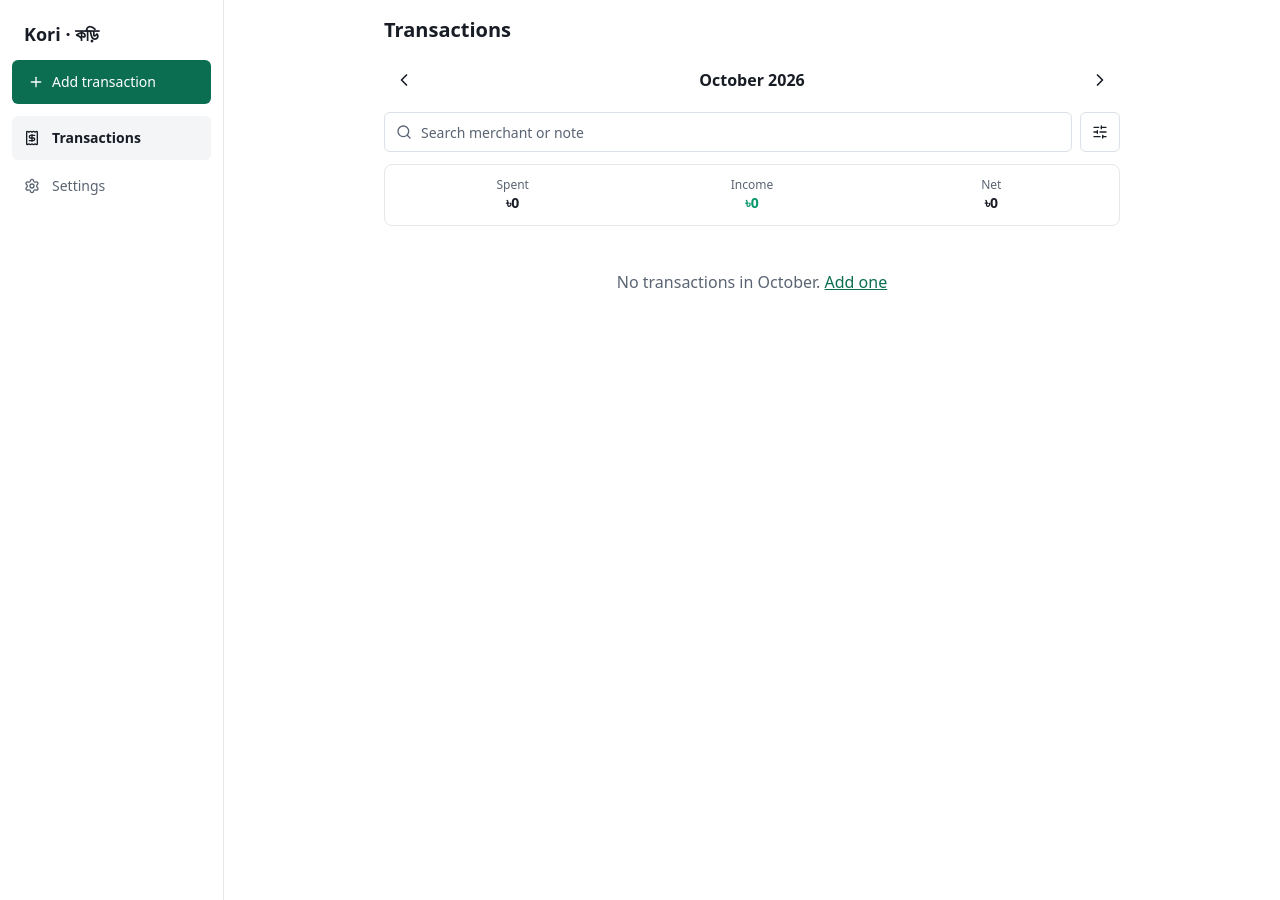
transaction form › logs an expense with amount, category, save
Click the button "Add transaction": point(112, 82) [12,60,211,104]
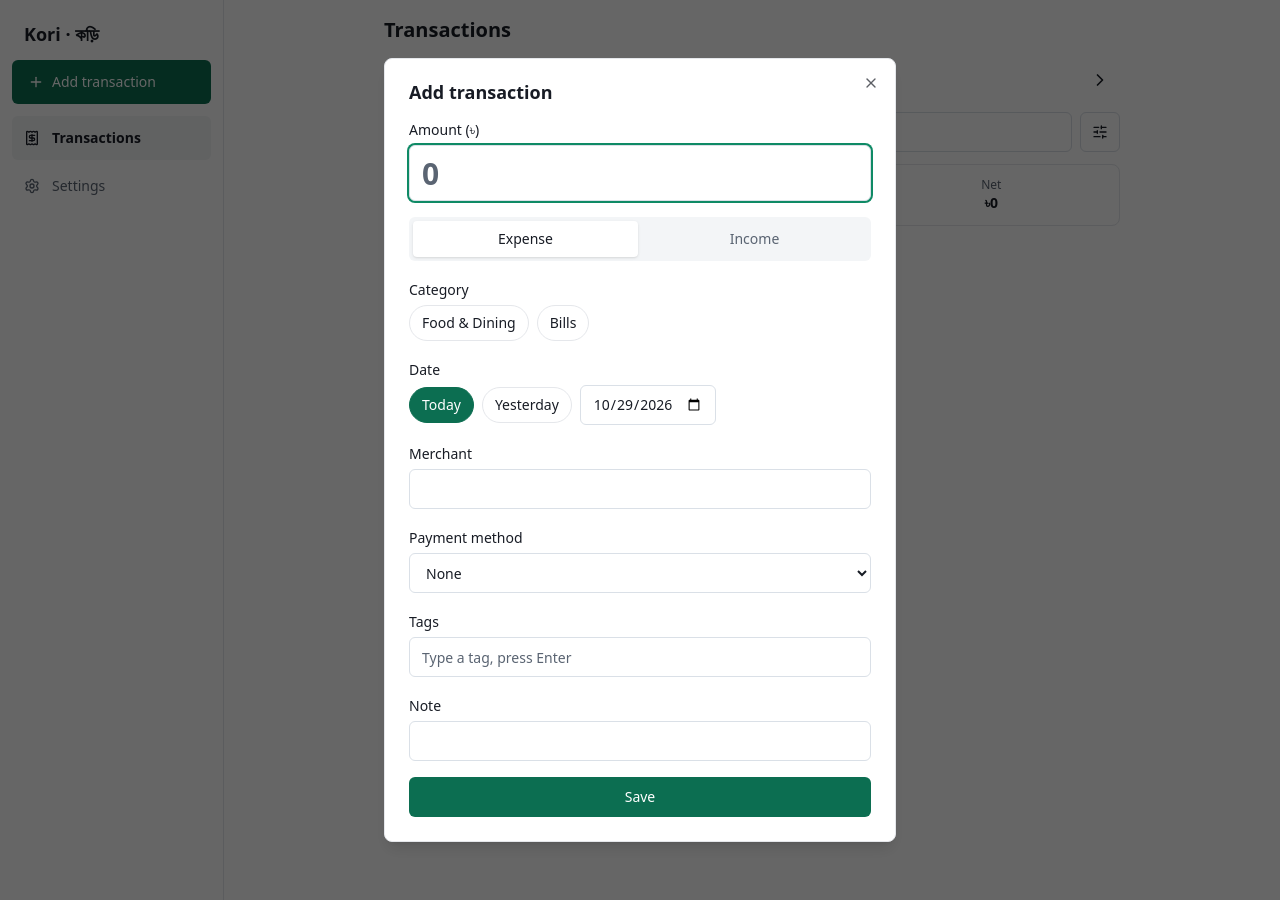
In the field labelled "Amount (৳)": point(640, 173) [409,145,871,201], type "1,250.5"
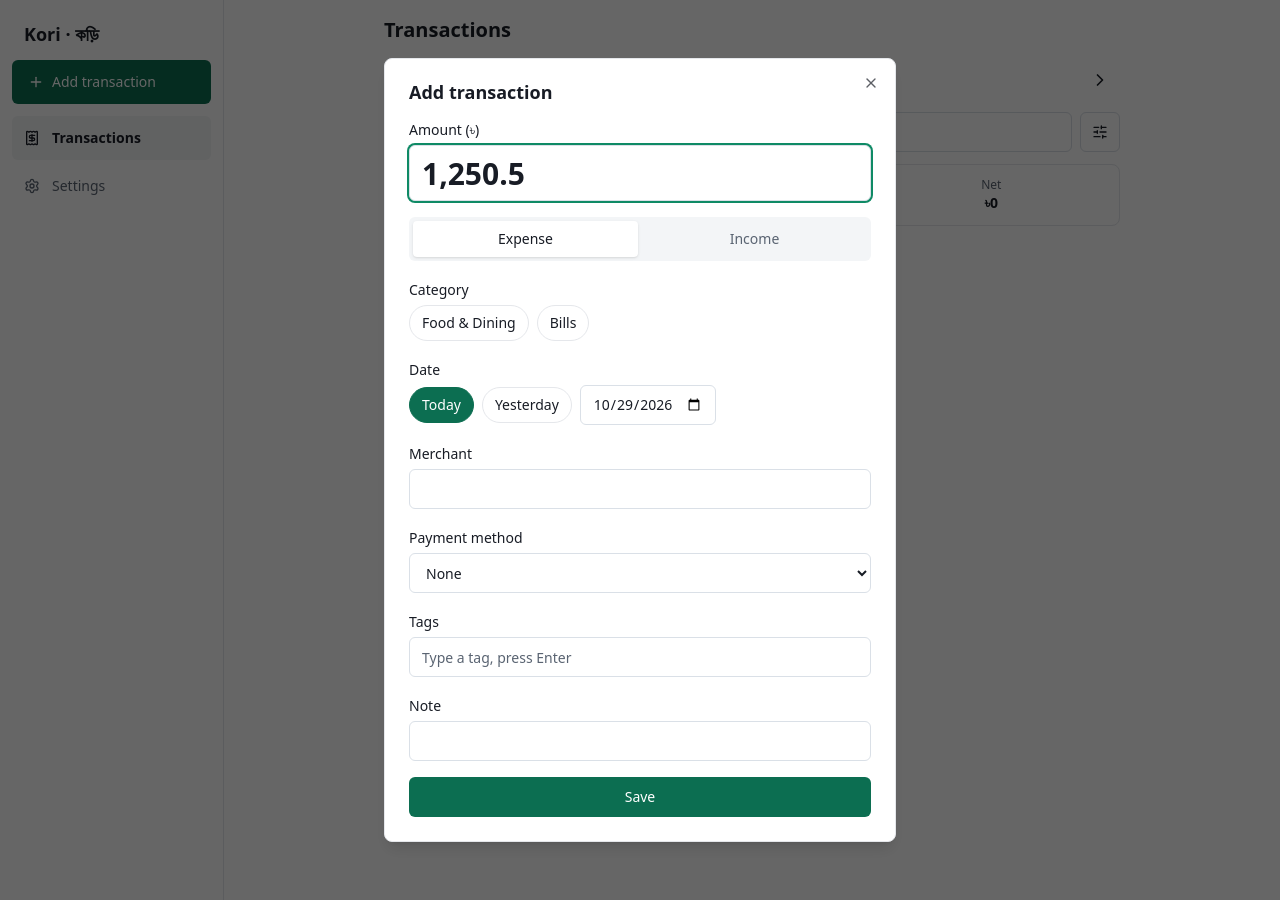
Click the radio button labelled "Food & Dining": point(469, 323) [409,305,529,341]
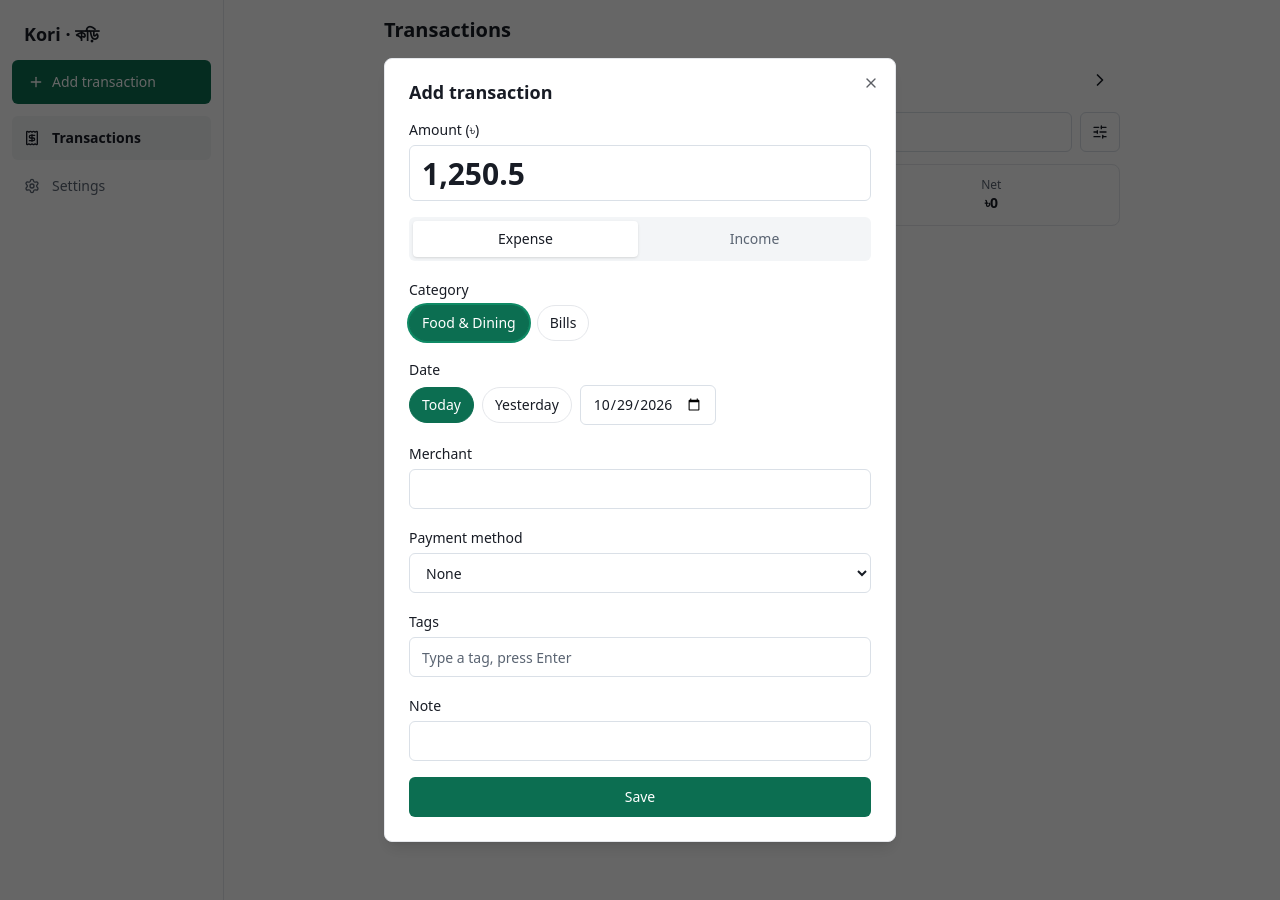
Click the button "Save": point(640, 797) [409,777,871,817]
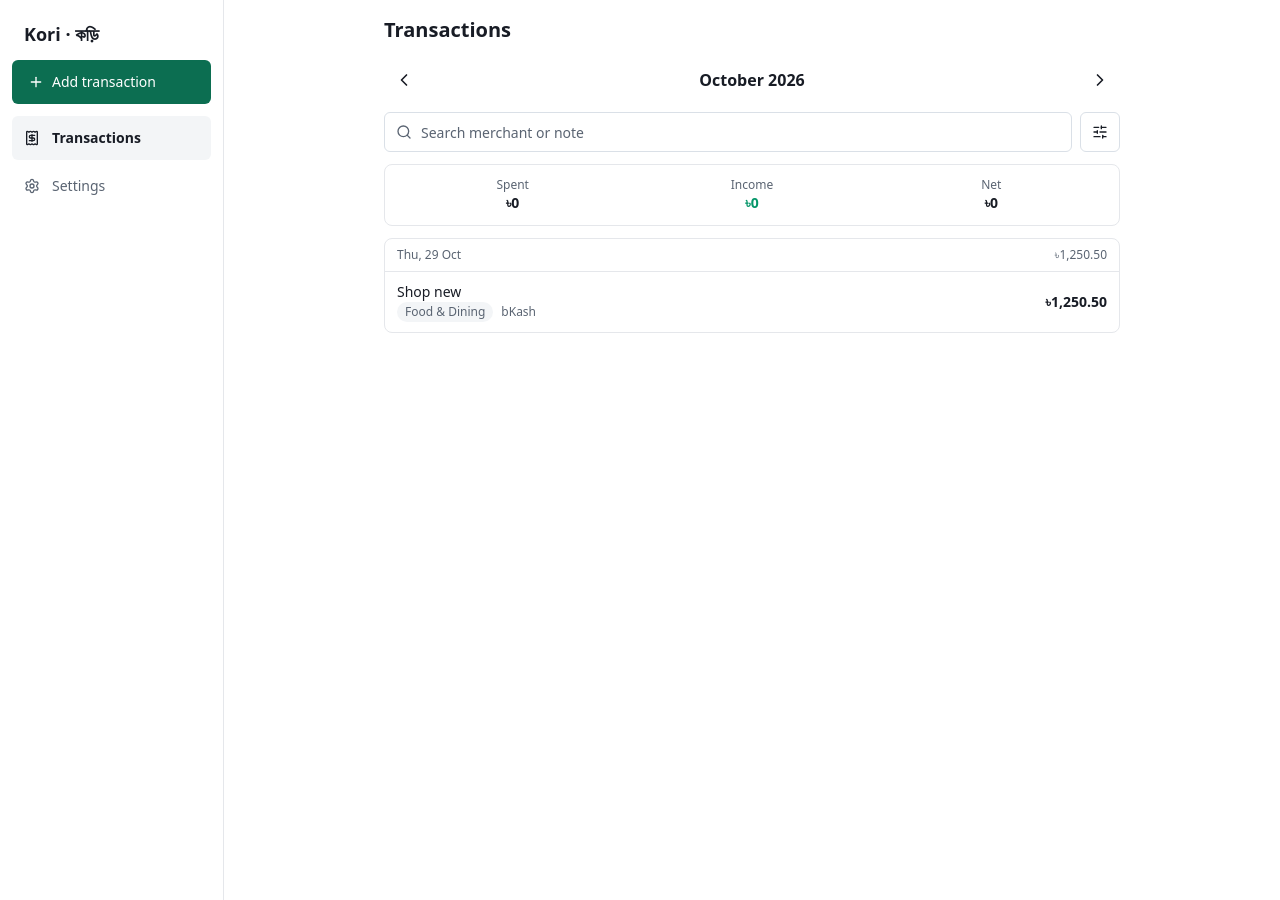
Expected: the dialog is gone
Expected: the text "Shop new" is shown, [397,282,461,301]
